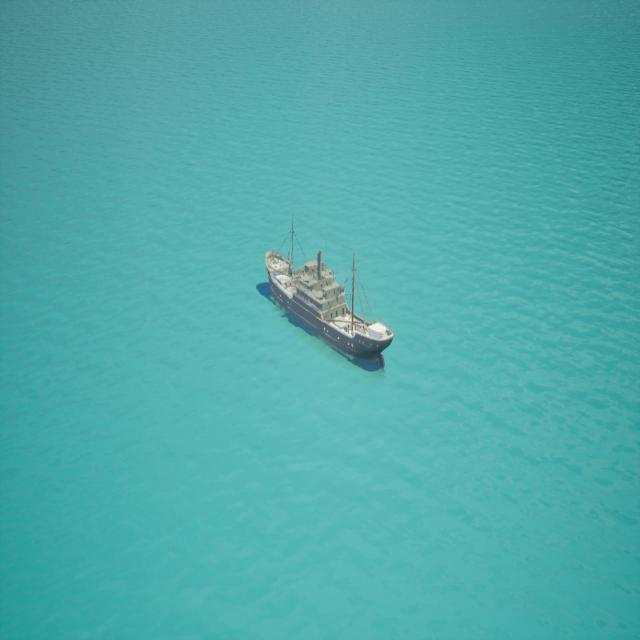fishing ship: (258, 215, 395, 371)
